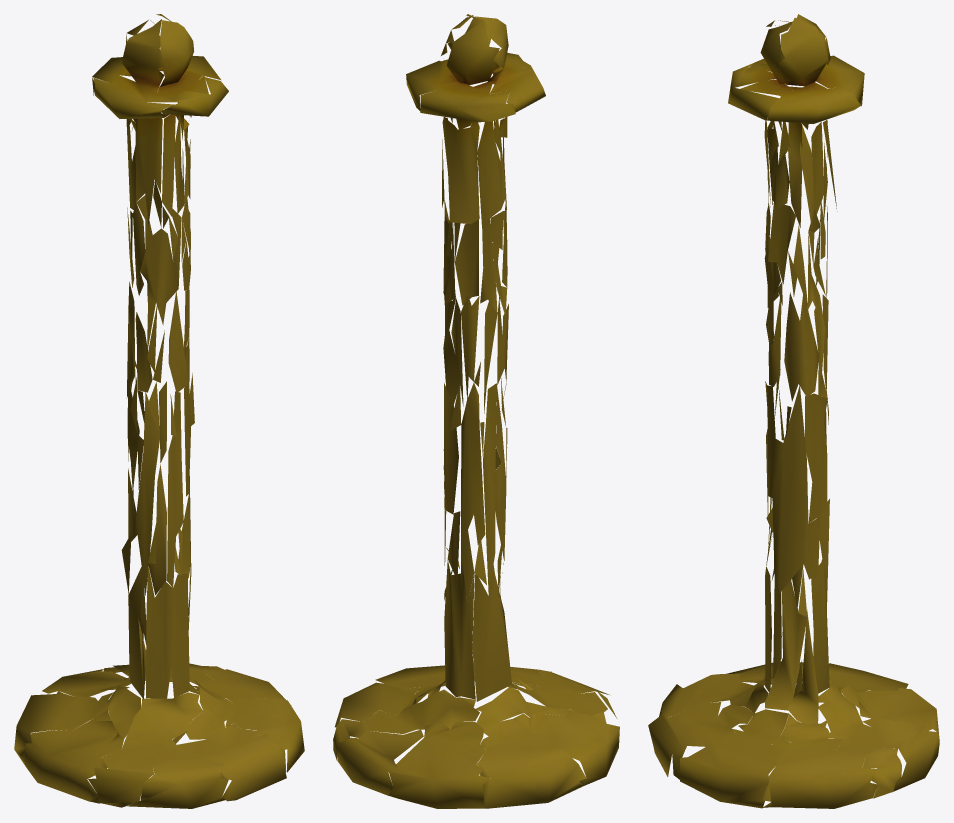
The model's file is penn_stanchion.glb.
3 renders of one model, left to right at view 1: azimuth 30°, elevation 25°; view 2: azimuth 150°, elevation 25°; view 3: azimuth 270°, elevation 25°, orthographic.
Visible parts, largest first — view 1: tripo_node_0fcfefc7-e274-468b-ac40-f5d8c2d3515e; view 2: tripo_node_0fcfefc7-e274-468b-ac40-f5d8c2d3515e; view 3: tripo_node_0fcfefc7-e274-468b-ac40-f5d8c2d3515e.
Part boxes in pixels (box(x1,y1,x2,y2)): tripo_node_0fcfefc7-e274-468b-ac40-f5d8c2d3515e: box(14, 14, 304, 808); tripo_node_0fcfefc7-e274-468b-ac40-f5d8c2d3515e: box(333, 14, 619, 808); tripo_node_0fcfefc7-e274-468b-ac40-f5d8c2d3515e: box(648, 14, 939, 808).
Size of the model in its own units: 0.3561 by 1 by 0.3608.
Materials: 1 (1 with a texture image).
